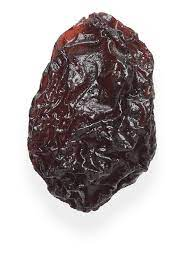raisin: (28, 12, 157, 213)
